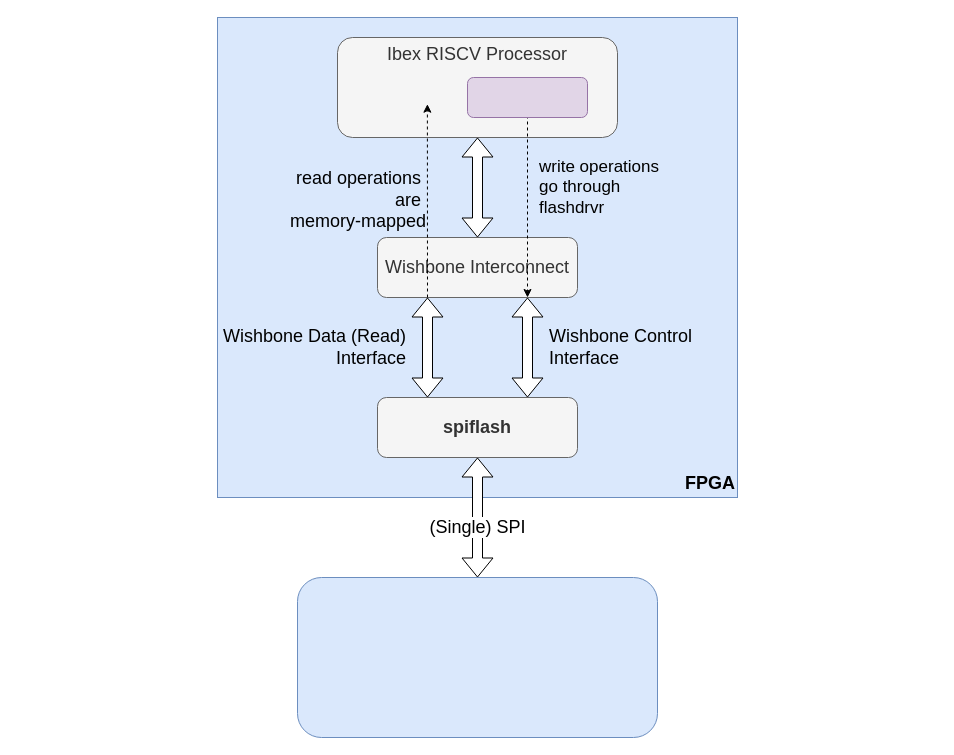
This 954x755 diagram has some shape labels left out. Here are the shapes that lost their labels. From the top down, the box of each, then its label:
(466, 76, 588, 118): flashdrvr
(296, 576, 658, 738): Spansion or Micron Flash Memory on Arty A7 or FLASHSIM co-simulator on Verilator
